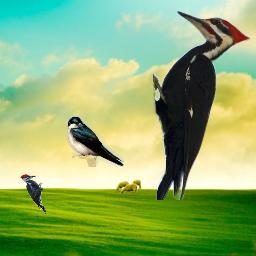Swallow: (67, 116, 124, 167)
Woodpecker: (153, 9, 254, 200), (20, 174, 46, 214)
